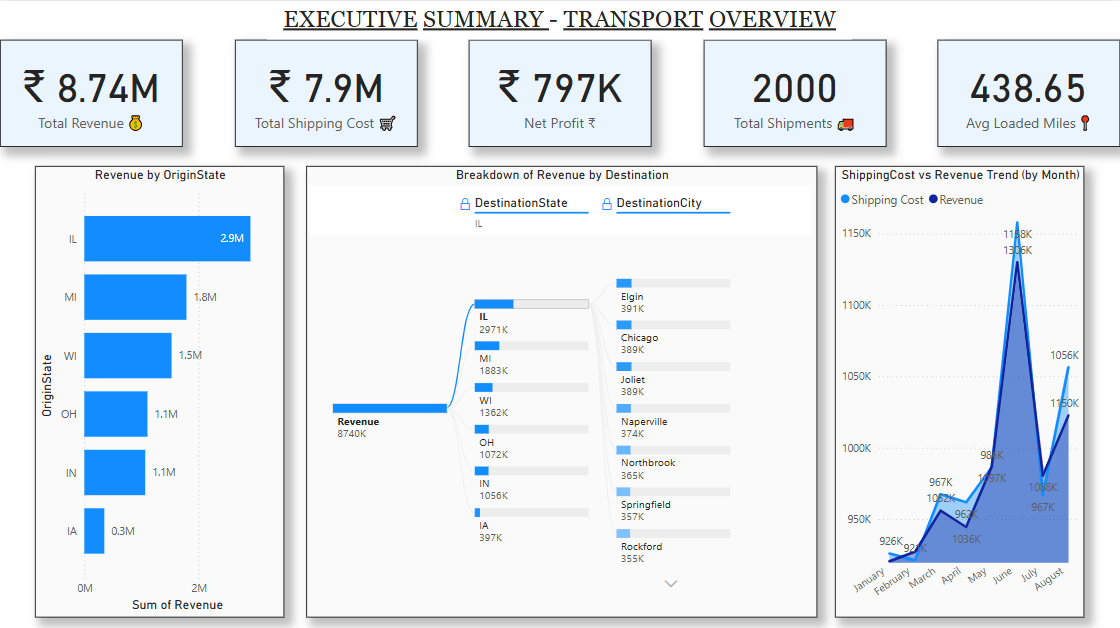

Layout of this report page (visuals, bound fields, positions):
{"tool":"powerbi","page":{"name":"Transport Overview","canvas":[1280,720],"ordinal":0},"visuals":[{"type":"group","id":"g1","title":"Group 2","box":[0,43.8,1280.2,659.7],"z":0},{"type":"group","id":"g2","title":"Group 1","box":[0,43.8,1280.2,122.2],"z":0,"group":"g1"},{"type":"card","fields":{"Values":["Sheet1.NetProfit"]},"box":[535.9,43.8,208.6,122.2],"z":0,"group":"g2"},{"type":"textbox","box":[305.6,0,667.9,43.8],"z":1000},{"type":"card","fields":{"Values":["Sheet1.TotalRevenue"]},"box":[0,43.8,208.6,122.2],"z":1000,"group":"g2"},{"type":"barChart","title":"Revenue by OriginState","fields":{"Y":["Sum(Sheet1.Revenue)"],"Category":["Sheet1.OriginState"]},"box":[40.7,187.7,284.9,515.7],"z":1000,"group":"g1"},{"type":"card","fields":{"Values":["Sheet1.TotalShippingCost"]},"box":[268,43.8,208.6,122.2],"z":2000,"group":"g2"},{"type":"areaChart","title":"ShippingCost vs Revenue Trend (by Month)","fields":{"Category":["Sheet1.ShipDate.Variation.Date Hierarchy.Month"],"Y":["Sum(Sheet1.ShippingCost)"],"Y2":["Sum(Sheet1.Revenue)"]},"box":[954.8,187.7,284.9,515.7],"z":2000,"group":"g1"},{"type":"card","fields":{"Values":["Sheet1.TotalShipments"]},"box":[803.9,43.8,208.6,122.2],"z":3000,"group":"g2"},{"type":"decompositionTreeVisual","title":"Breakdown of Revenue by Destination","fields":{"ExplainBy":["Sheet1.DestinationState","Sheet1.DestinationCity"],"Analyze":["Sum(Sheet1.Revenue)"]},"box":[350.1,187.7,583.8,515.7],"z":3000,"group":"g1"},{"type":"card","fields":{"Values":["Sheet1.AvgLoadedMiles"]},"box":[1071.6,43.8,208.6,122.2],"z":4000,"group":"g2"}]}

Visuals, with their boxes in screenshot pixels (x1, y1, x2, y2), scaled from the page's 1280x720 canvas onto the 1120x628 screenshot:
"Group 2" group: detection(0, 38, 1119, 614)
"Group 1" group: detection(0, 38, 1119, 145)
card - Sheet1.NetProfit: detection(469, 38, 651, 145)
textbox: detection(267, 0, 852, 38)
card - Sheet1.TotalRevenue: detection(0, 38, 183, 145)
"Revenue by OriginState" barChart: detection(36, 164, 285, 614)
card - Sheet1.TotalShippingCost: detection(234, 38, 417, 145)
"ShippingCost vs Revenue Trend (by Month)" areaChart: detection(835, 164, 1085, 614)
card - Sheet1.TotalShipments: detection(703, 38, 886, 145)
"Breakdown of Revenue by Destination" decompositionTreeVisual: detection(306, 164, 817, 614)
card - Sheet1.AvgLoadedMiles: detection(938, 38, 1119, 145)
